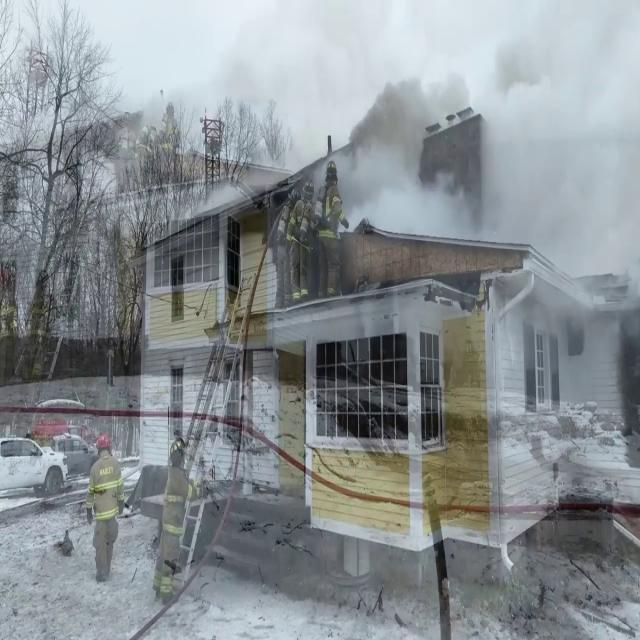Smoke: (338, 2, 638, 252)
